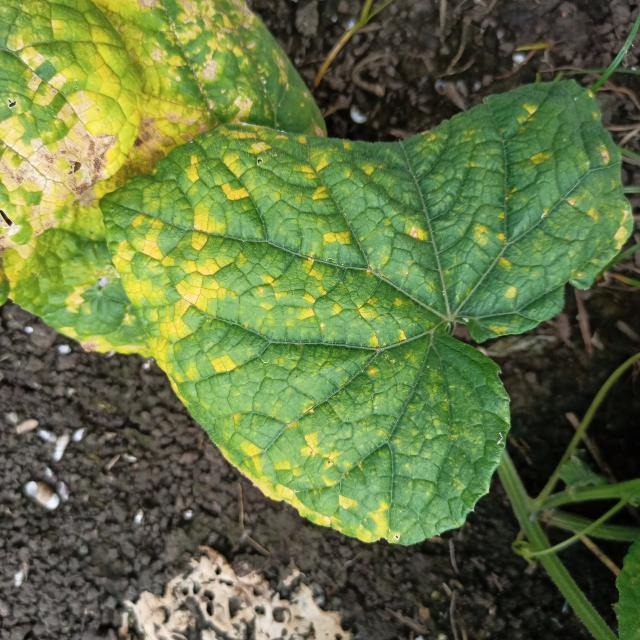disease_cucumber: (114, 91, 613, 527), (0, 0, 288, 342)
